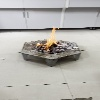fire: (37, 26, 61, 53)
